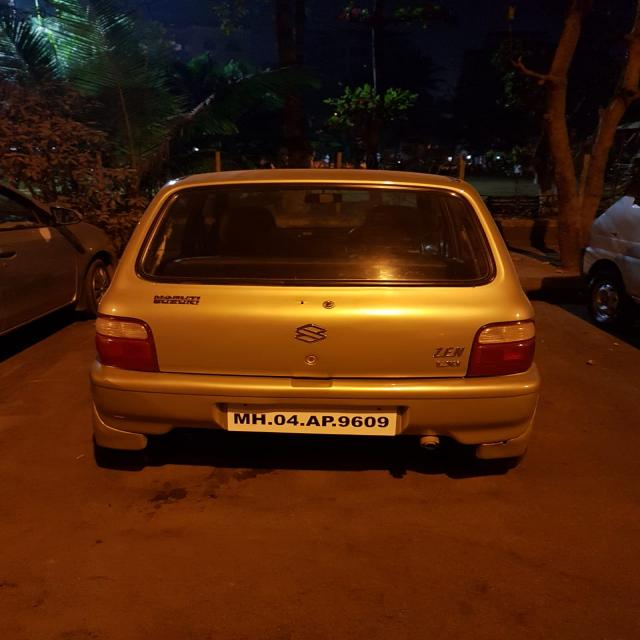Number-Plate: (229, 403, 395, 434)
